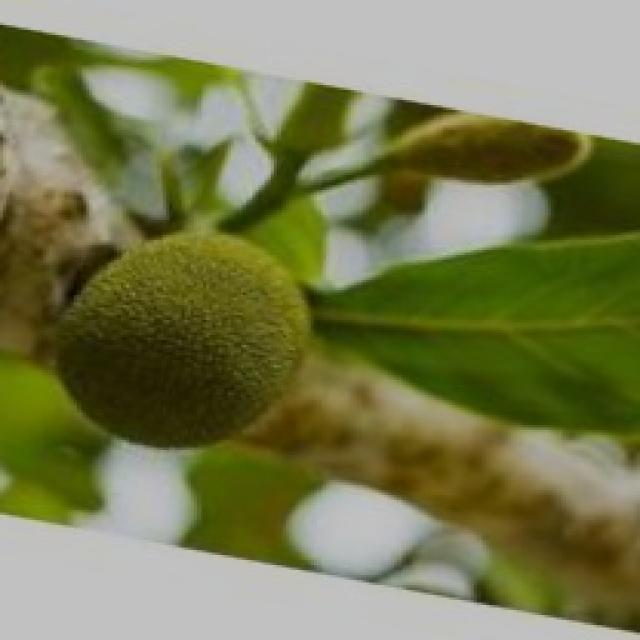Fruit: (9, 215, 336, 475)
